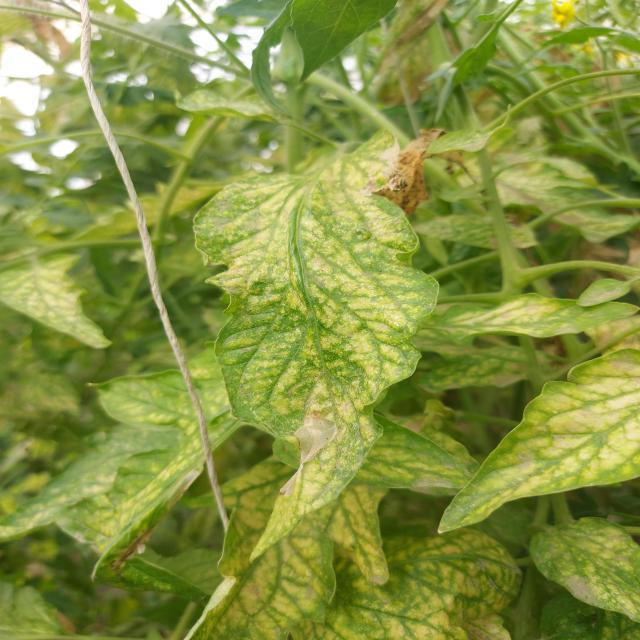Tuta absoluta: (261, 407, 341, 500), (379, 140, 400, 187)
